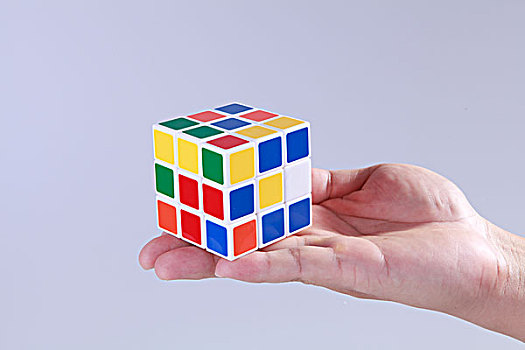cube: (149, 97, 315, 263)
